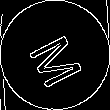M_NE: (22, 23, 88, 87)
